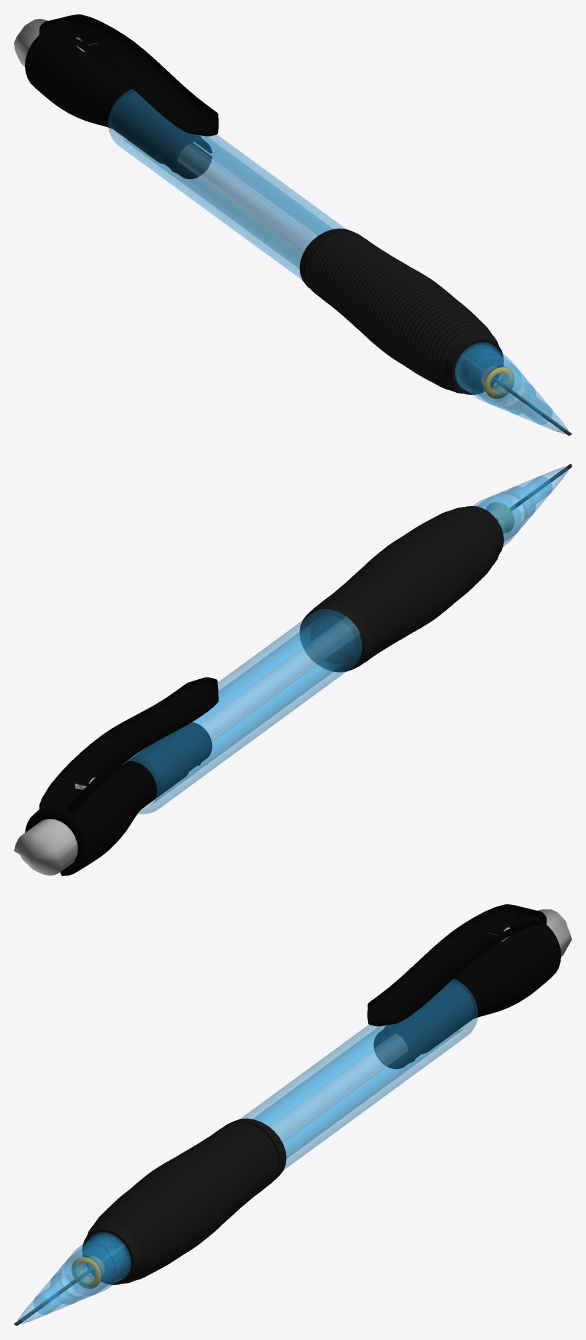
Rendered from Pencil.glb.
3 renders of one model, top to bottom at view 1: azimuth 30°, elevation 25°; view 2: azimuth 150°, elevation 25°; view 3: azimuth 330°, elevation 25°, orthographic.
Visible parts, largest first — view 1: EraserCap, Grip, Shaft, Tip, LeadHolder, TipScrew, LeadGripBracketMetal, Eraser; view 2: Grip, EraserCap, Shaft, LeadHolder, Tip, Eraser; view 3: EraserCap, Grip, Shaft, Tip, LeadHolder, TipScrew, LeadGripBracketMetal, Eraser.
Boxes of the visible parts, x1,y1,x2,y2 form: EraserCap: [25, 14, 218, 179]; Grip: [299, 228, 503, 394]; Shaft: [108, 89, 345, 279]; Tip: [456, 344, 567, 433]; LeadHolder: [178, 143, 316, 252]; TipScrew: [455, 342, 516, 401]; LeadGripBracketMetal: [481, 366, 514, 398]; Eraser: [14, 19, 47, 66]; Grip: [299, 506, 503, 672]; EraserCap: [25, 677, 218, 875]; Shaft: [125, 609, 361, 813]; LeadHolder: [199, 617, 360, 741]; Tip: [473, 467, 567, 546]; Eraser: [14, 819, 77, 875]; EraserCap: [367, 904, 560, 1068]; Grip: [82, 1118, 286, 1284]; Shaft: [240, 979, 477, 1169]; Tip: [18, 1234, 129, 1323]; LeadHolder: [269, 1033, 407, 1142]; TipScrew: [69, 1232, 130, 1291]; LeadGripBracketMetal: [71, 1256, 104, 1288]; Eraser: [538, 909, 571, 956].
Bounding box in the file's own units: 0.0116 × 0.0146 × 0.1432.
